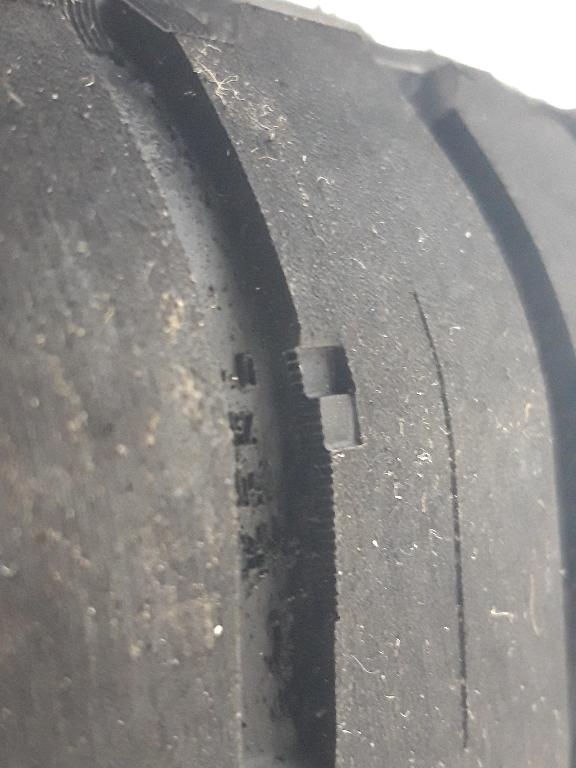temoin:25: (261, 325, 382, 477)
